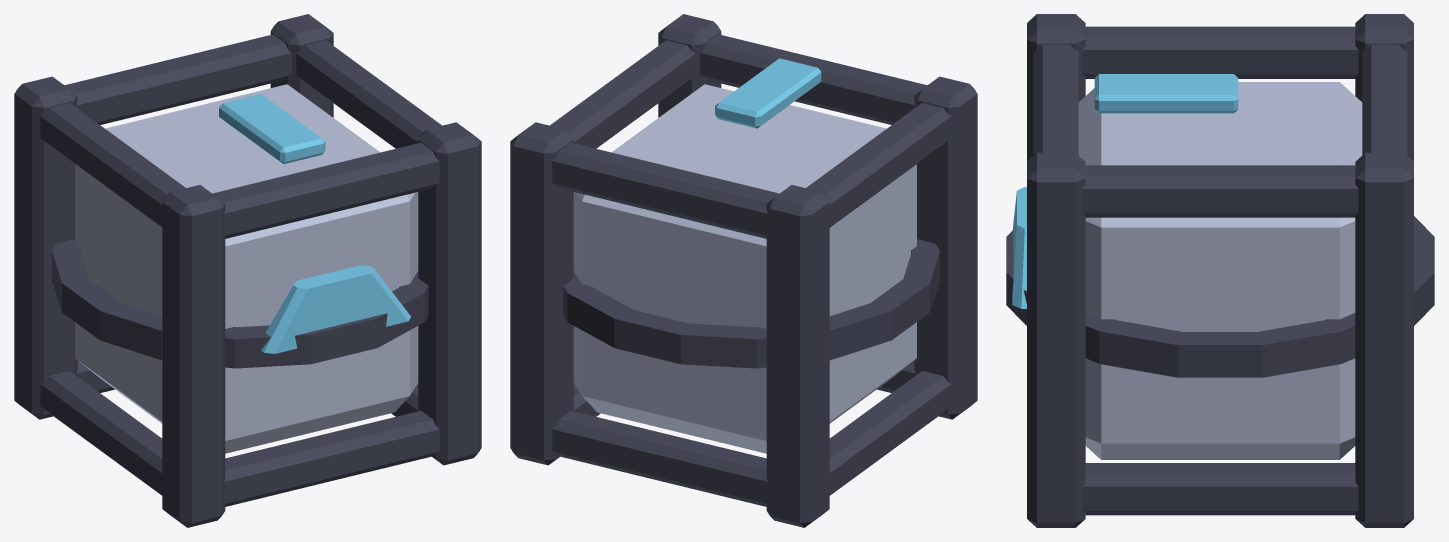
Rendered from CoreUnit.fbx.
3 views of the same model, side by side, from view 1: azimuth 30°, elevation 25°; view 2: azimuth 150°, elevation 25°; view 3: azimuth 270°, elevation 25° (orthographic). The views are drawn at different scales.
Visible parts, largest first — view 1: Core_CageFrame, Core_InnerChamber, Core_FrontVisor; view 2: Core_CageFrame, Core_InnerChamber, Core_FrontVisor; view 3: Core_CageFrame, Core_InnerChamber, Core_FrontVisor.
Boxes of the visible parts, box(x1,y1,x2,y2) form: Core_CageFrame: box(14, 14, 481, 527); Core_InnerChamber: box(75, 84, 418, 453); Core_FrontVisor: box(219, 94, 410, 353); Core_CageFrame: box(510, 14, 977, 527); Core_InnerChamber: box(573, 84, 916, 453); Core_FrontVisor: box(715, 58, 821, 128); Core_CageFrame: box(1006, 14, 1434, 527); Core_InnerChamber: box(1078, 82, 1362, 459); Core_FrontVisor: box(1012, 74, 1238, 308).
Size of the model in its own units: 0.9514 by 0.8975 by 0.9514.
